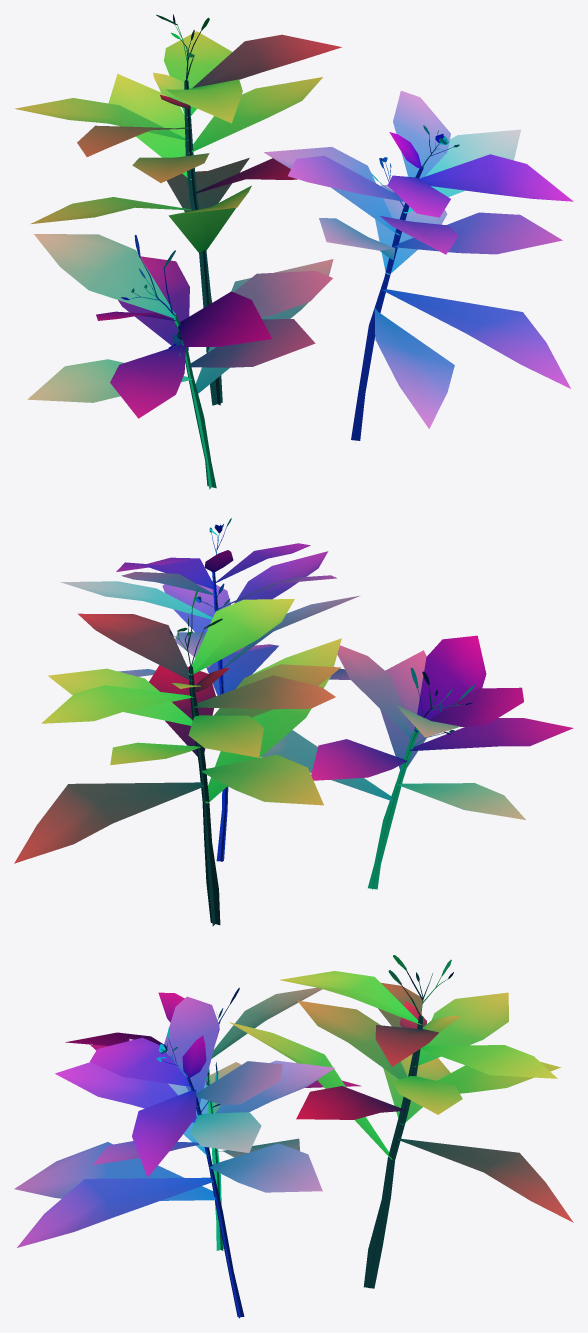
The model's file is xefmcgrqx_VarF_LOD0.fbx.
3 renders of one model, top to bottom at view 1: azimuth 30°, elevation 25°; view 2: azimuth 150°, elevation 25°; view 3: azimuth 270°, elevation 25°, orthographic. The views are drawn at different scales.
Parts seen in each view (by area): view 1: _hvt5_VarF_LOD3; view 2: _hvt5_VarF_LOD3; view 3: _hvt5_VarF_LOD3.
Boxes of the visible parts, x1=… form: _hvt5_VarF_LOD3: x1=14, y1=14, x2=573, y2=489; _hvt5_VarF_LOD3: x1=14, y1=518, x2=573, y2=926; _hvt5_VarF_LOD3: x1=14, y1=955, x2=573, y2=1318.
Size of the model in its own units: 56.89 by 40.8 by 61.51.
